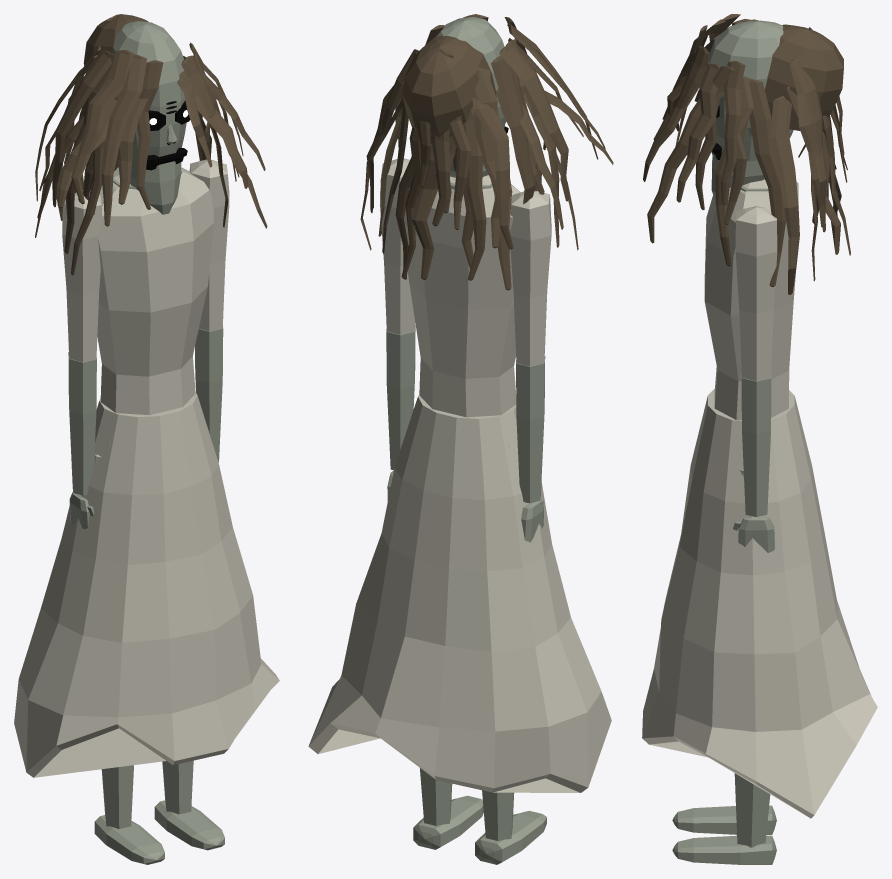
The model's file is screamer.glb.
3 renders of one model, left to right at view 1: azimuth 30°, elevation 25°; view 2: azimuth 150°, elevation 25°; view 3: azimuth 270°, elevation 25°, orthographic. The views are drawn at different scales.
Visible parts, largest first — view 1: Robe, Spine, Hair, Head, UpperArm.R, Shin.R, Forearm.R, Shin.L, UpperArm.L, Forearm.L, Jaw, Hand.R; view 2: Robe, Hair, Spine, UpperArm.R, Forearm.R, Shin.R, Shin.L, UpperArm.L, Forearm.L, Head, Hand.R; view 3: Robe, Hair, Spine, UpperArm.L, Shin.L, Head, Forearm.L, Shin.R, Hand.L, Jaw.
Boxes of the visible parts, x1=… form: Robe: x1=14, y1=393, x2=279, y2=777; Spine: x1=97, y1=167, x2=213, y2=415; Hair: x1=35, y1=14, x2=267, y2=275; Head: x1=112, y1=21, x2=190, y2=165; UpperArm.R: x1=62, y1=190, x2=102, y2=362; Shin.R: x1=94, y1=765, x2=164, y2=864; Forearm.R: x1=68, y1=352, x2=96, y2=495; Shin.L: x1=154, y1=760, x2=224, y2=850; UpperArm.L: x1=189, y1=159, x2=229, y2=331; Forearm.L: x1=195, y1=327, x2=223, y2=462; Jaw: x1=130, y1=157, x2=183, y2=214; Hand.R: x1=69, y1=492, x2=93, y2=528; Robe: x1=308, y1=395, x2=611, y2=792; Hair: x1=360, y1=14, x2=613, y2=290; Spine: x1=397, y1=175, x2=520, y2=417; UpperArm.R: x1=510, y1=191, x2=551, y2=366; Forearm.R: x1=516, y1=356, x2=545, y2=503; Shin.R: x1=475, y1=790, x2=546, y2=864; Shin.L: x1=413, y1=768, x2=483, y2=849; UpperArm.L: x1=380, y1=158, x2=415, y2=334; Forearm.L: x1=386, y1=324, x2=415, y2=470; Head: x1=436, y1=16, x2=508, y2=133; Hand.R: x1=521, y1=499, x2=543, y2=542; Robe: x1=642, y1=388, x2=877, y2=818; Hair: x1=643, y1=14, x2=850, y2=294; Spine: x1=704, y1=179, x2=798, y2=420; UpperArm.L: x1=735, y1=206, x2=777, y2=381; Shin.L: x1=672, y1=773, x2=776, y2=864; Head: x1=708, y1=20, x2=793, y2=161; Forearm.L: x1=741, y1=374, x2=771, y2=516; Shin.R: x1=672, y1=805, x2=776, y2=834; Hand.L: x1=733, y1=517, x2=774, y2=552; Jaw: x1=711, y1=152, x2=764, y2=200.
Bounding box in the file's own units: 0.5608 × 1.74 × 0.45.
